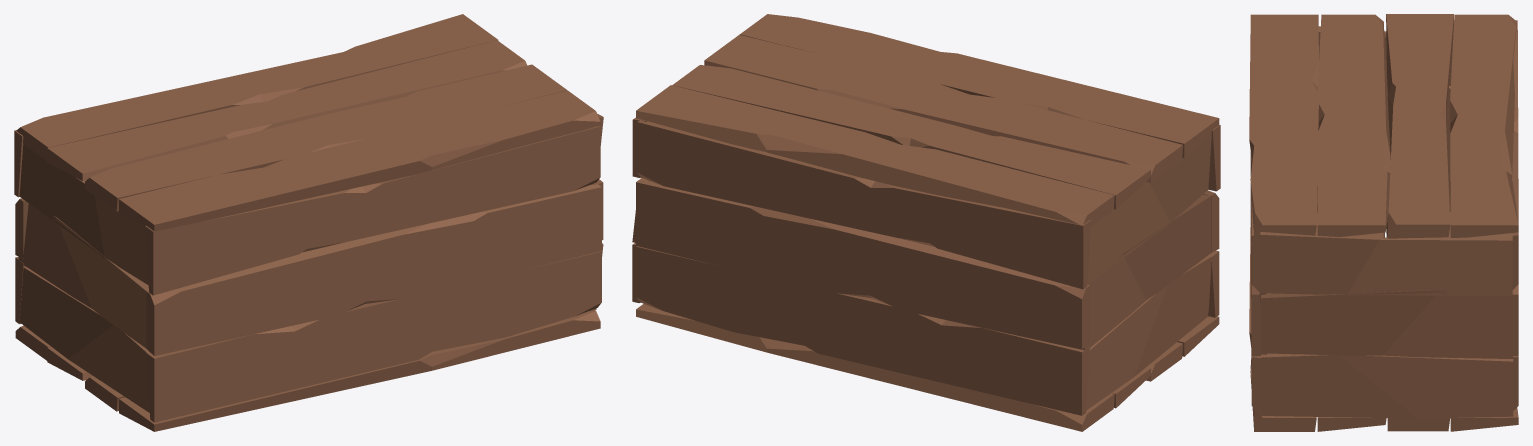
The model's file is box tutup.fbx.
The picture shows the model from 3 angles, left to right: view 1: azimuth 30°, elevation 25°; view 2: azimuth 150°, elevation 25°; view 3: azimuth 270°, elevation 25°; orthographic projection. The views are drawn at different scales.
Parts seen in each view (by area): view 1: box tutup; view 2: box tutup; view 3: box tutup.
Part boxes in pixels (x1,y1,x2,y2): box tutup: (14, 14, 603, 431); box tutup: (632, 14, 1220, 431); box tutup: (1249, 14, 1518, 431).
Size of the model in its own units: 94.09 by 42.23 by 49.96.
